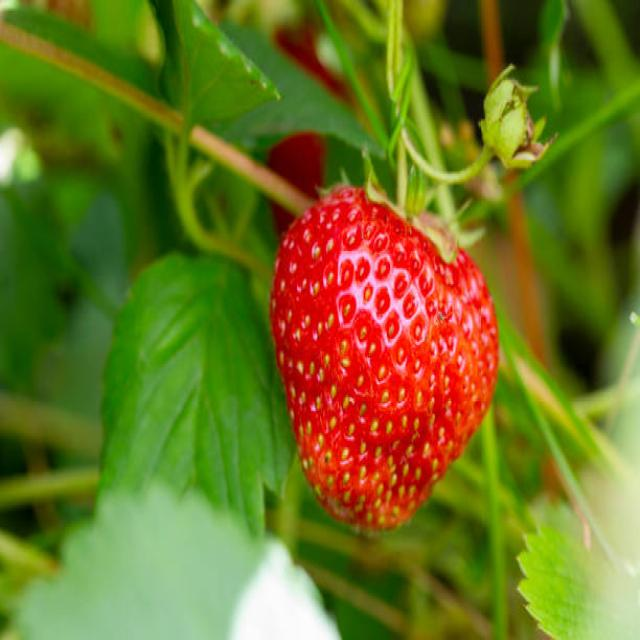Healthy Fruit: (268, 185, 498, 527)
